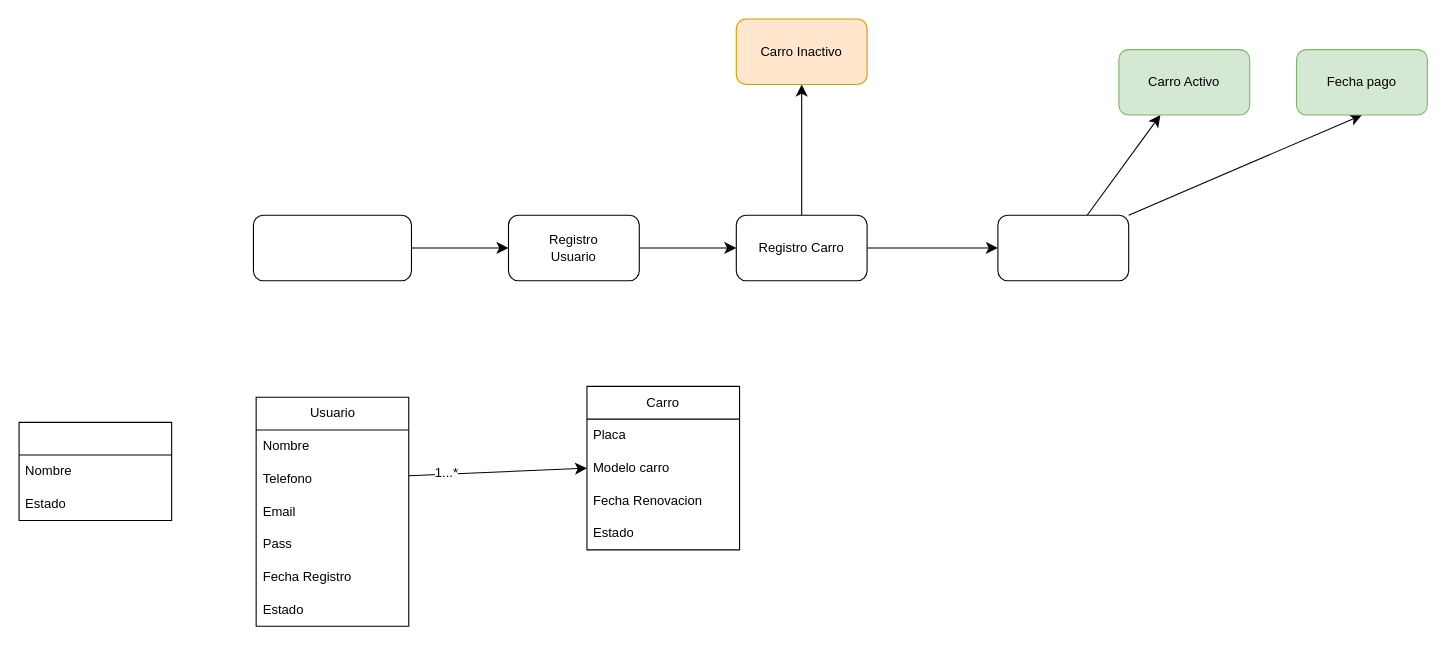
The diagram is 1446 pixels wide and 645 high, and some of its shapes have lost their labels. The shapes that lost their labels are listed below. From the top down, each one's box as (x1, y1, x2, y2) in pixels, then its label:
(252, 214, 411, 281): Cliente entra a la web
(997, 214, 1129, 281): Pago
(18, 421, 172, 520): Metodos Pago
